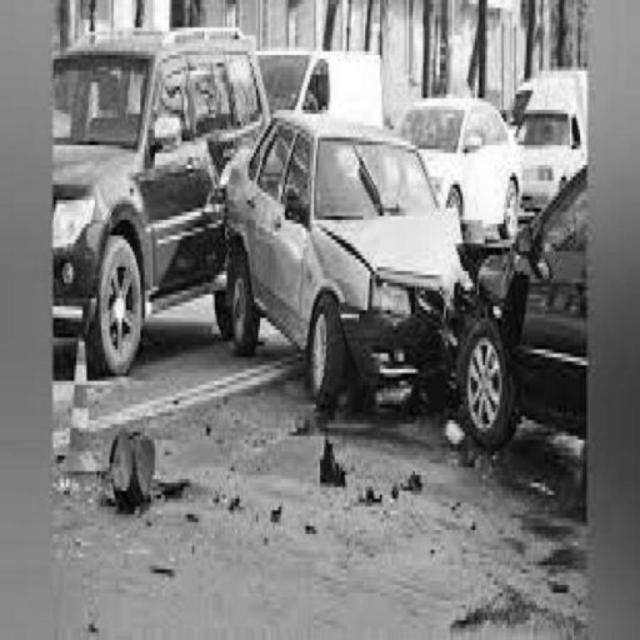accident: (225, 129, 592, 423), (53, 54, 359, 368)
vehicle: (401, 101, 512, 225)
